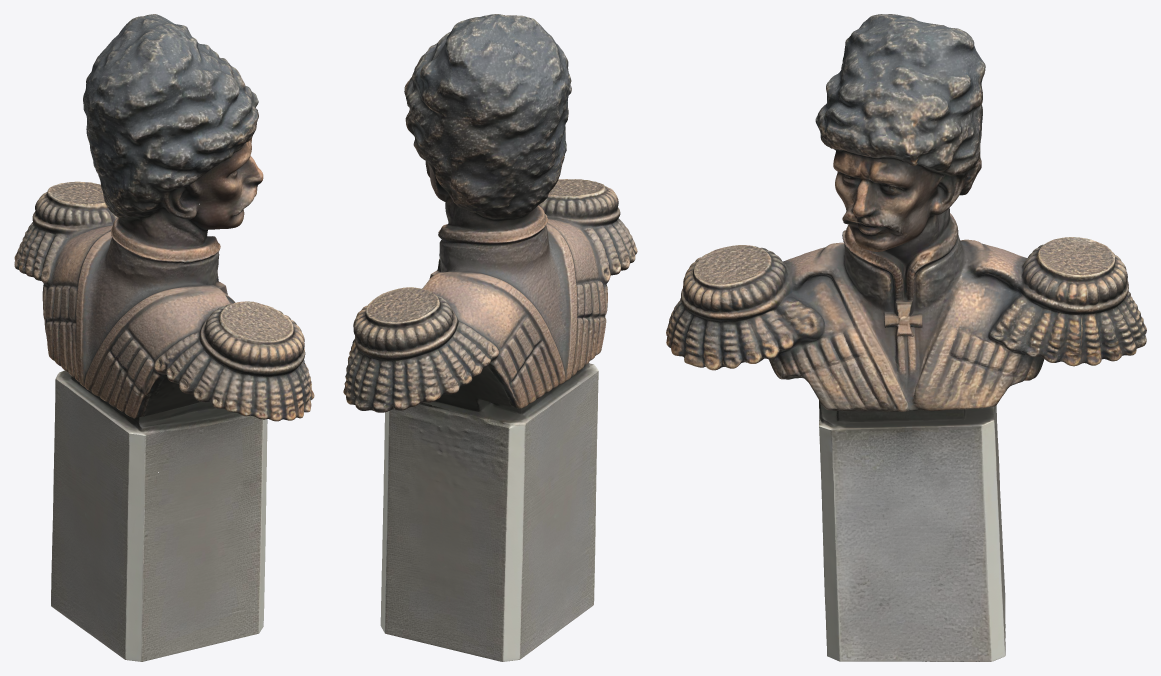
File: Гудовичglb.glb
3 views of the same model, side by side, from view 1: azimuth 30°, elevation 25°; view 2: azimuth 150°, elevation 25°; view 3: azimuth 270°, elevation 25° (orthographic). The views are drawn at different scales.
Parts seen in each view (by area): view 1: tripo_node_4246fda5-a5b2-4c7c-af39-5d8149b0f302; view 2: tripo_node_4246fda5-a5b2-4c7c-af39-5d8149b0f302; view 3: tripo_node_4246fda5-a5b2-4c7c-af39-5d8149b0f302.
Boxes of the visible parts, x1,y1,x2,y2 form: tripo_node_4246fda5-a5b2-4c7c-af39-5d8149b0f302: [14, 14, 314, 661]; tripo_node_4246fda5-a5b2-4c7c-af39-5d8149b0f302: [343, 14, 637, 661]; tripo_node_4246fda5-a5b2-4c7c-af39-5d8149b0f302: [666, 14, 1146, 661].
Size of the model in its own units: 0.2872 by 0.9997 by 0.7182.
Materials: 1 (1 with a texture image).
